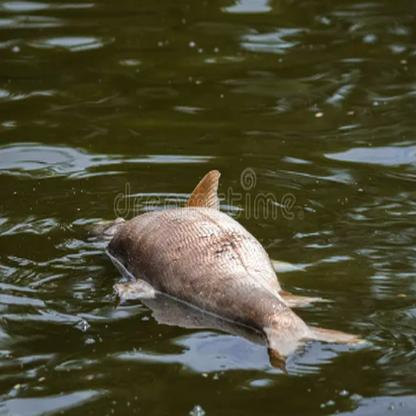deceased fish: (97, 162, 362, 366)
